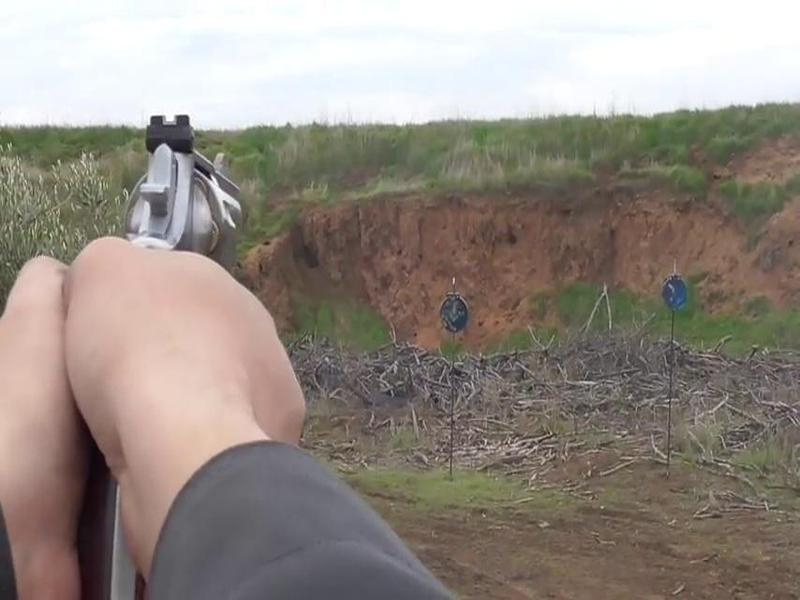Revolver: (115, 104, 265, 308)
